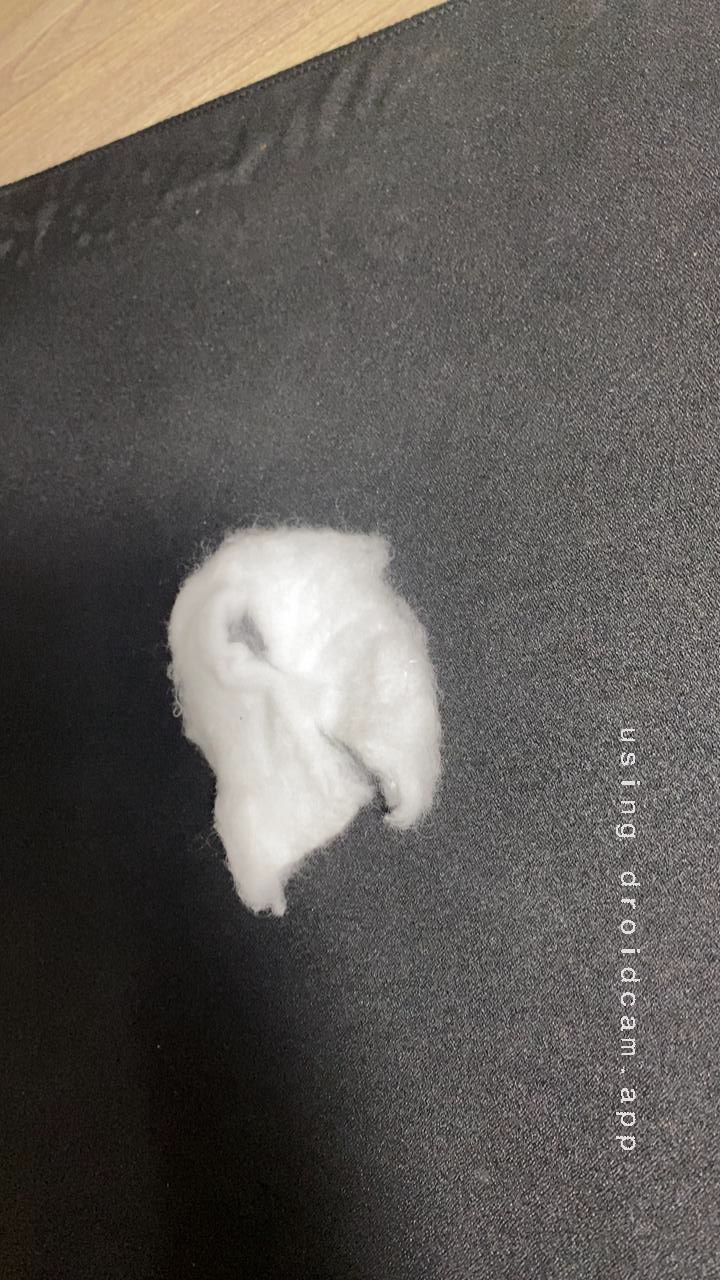cotton: (116, 502, 495, 911)
